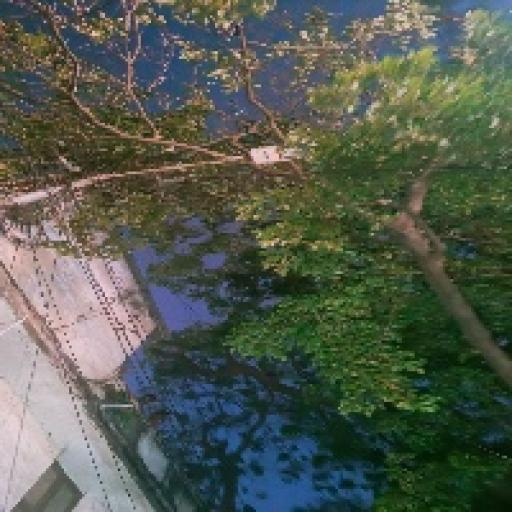Not Working: (240, 137, 302, 172)
